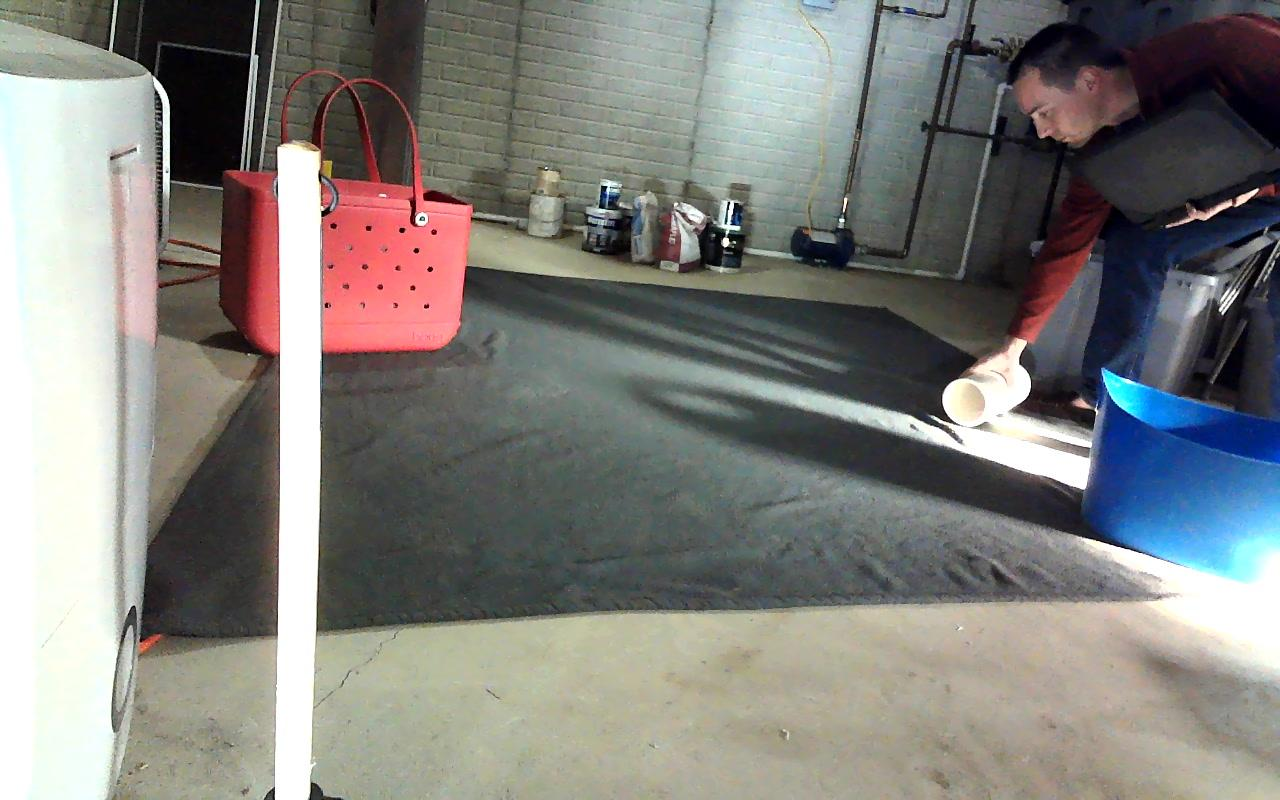coral: (944, 363, 1032, 420)
